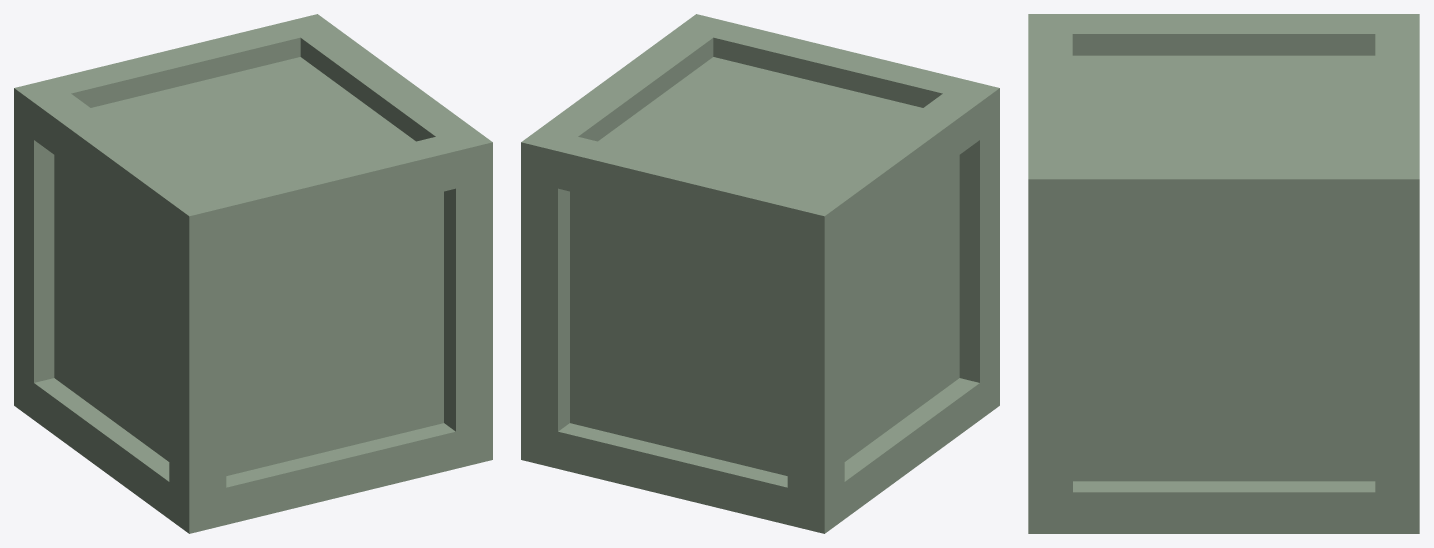
File: crate_03.fbx
3 views of the same model, side by side, from view 1: azimuth 30°, elevation 25°; view 2: azimuth 150°, elevation 25°; view 3: azimuth 270°, elevation 25° (orthographic). The views are drawn at different scales.
Visible parts, largest first — view 1: crate_03; view 2: crate_03; view 3: crate_03.
Part boxes in pixels (box(x1,y1,x2,y2)): crate_03: box(14, 14, 492, 533); crate_03: box(521, 14, 999, 533); crate_03: box(1028, 14, 1419, 533).
Bounding box in the file's own units: 1.55 × 1.55 × 1.55.
